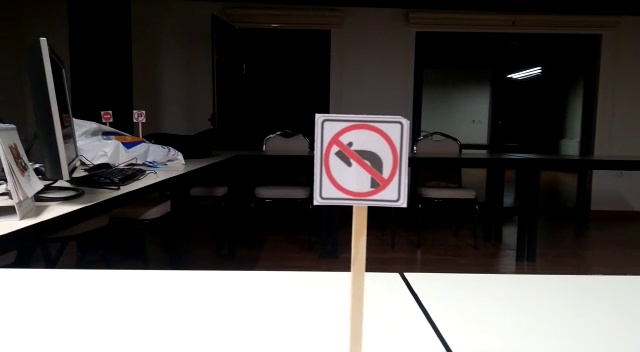sola_donulmez: (320, 121, 400, 196)
